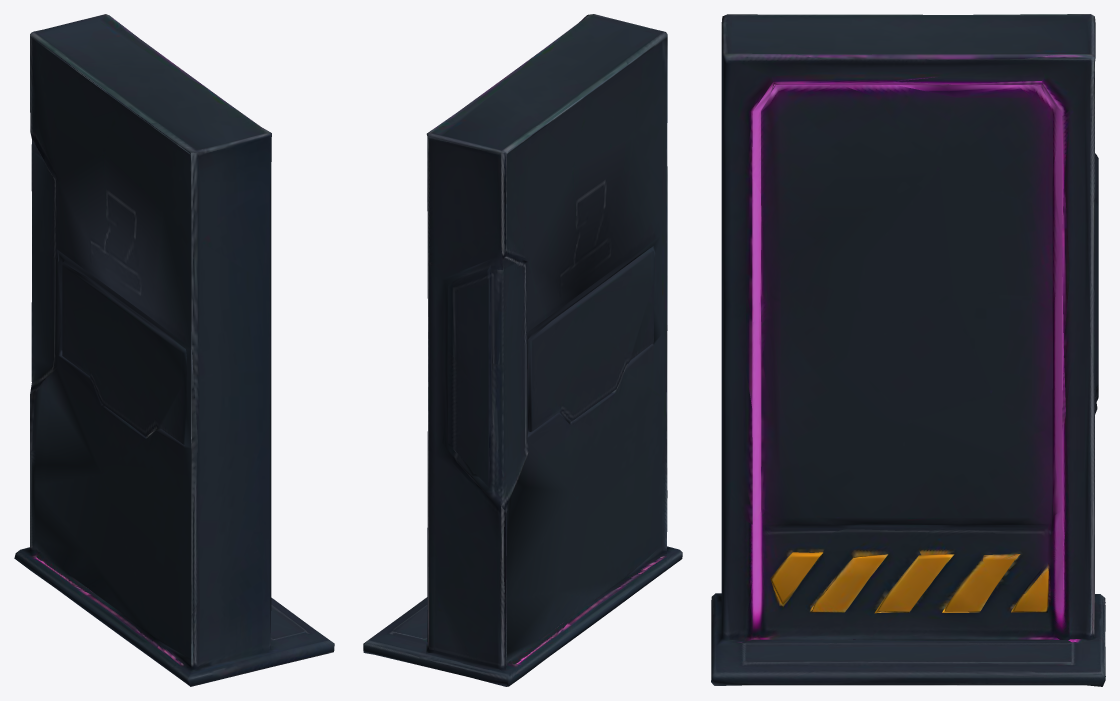
File: DoorRight.fbx
3 views of the same model, side by side, from view 1: azimuth 30°, elevation 25°; view 2: azimuth 150°, elevation 25°; view 3: azimuth 270°, elevation 25° (orthographic). The views are drawn at different scales.
Parts seen in each view (by area): view 1: DoorRight; view 2: DoorRight; view 3: DoorRight.
Boxes of the visible parts, left/top/right/bottom form: DoorRight: left=14, top=14, right=334, bottom=686; DoorRight: left=363, top=14, right=682, bottom=686; DoorRight: left=711, top=14, right=1105, bottom=686.
Size of the model in its own units: 20.01 by 68.55 by 40.91.
